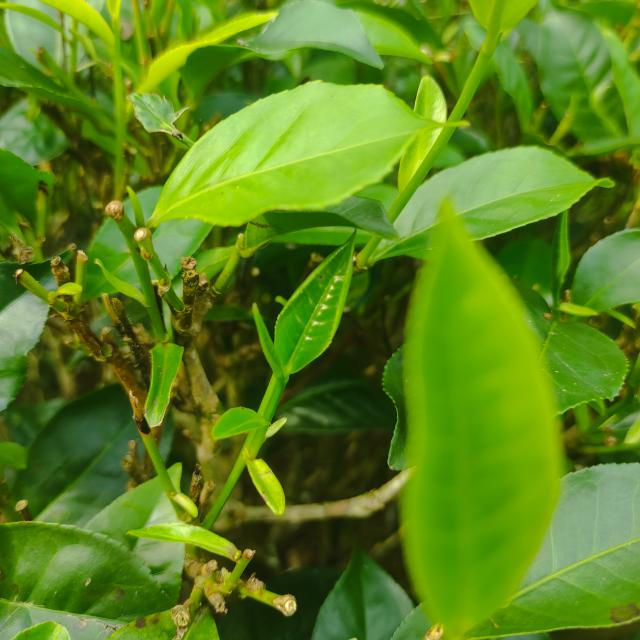unopened_leaf: (246, 298, 295, 394), (548, 206, 576, 298), (118, 177, 150, 232)
